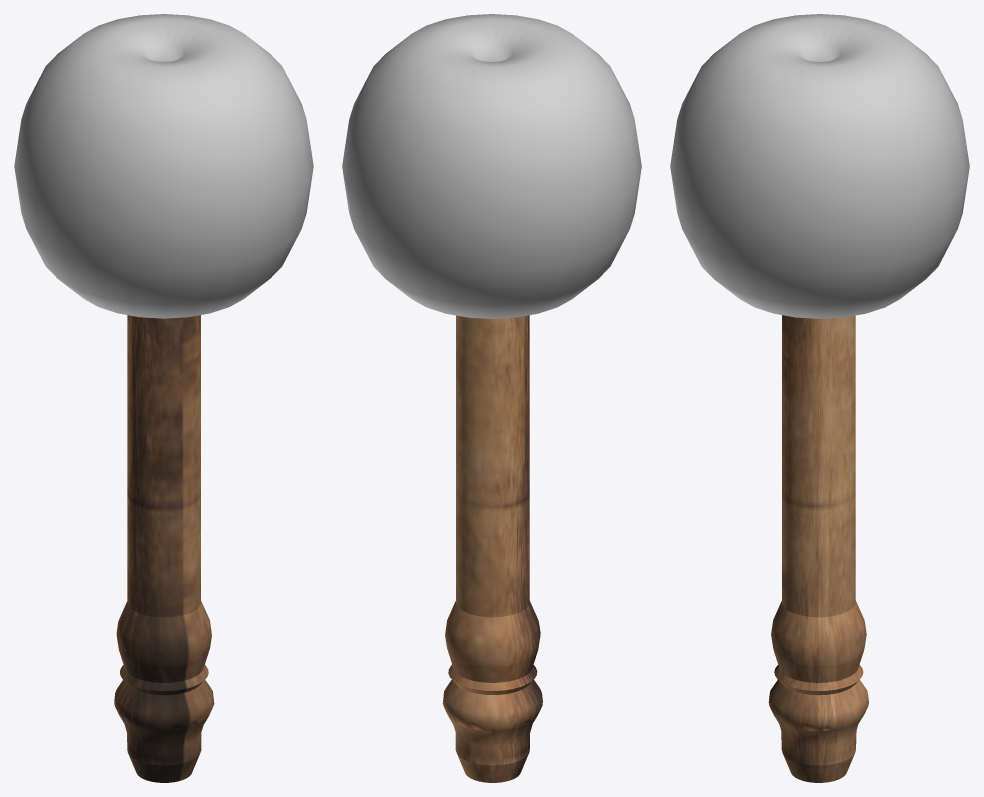
The model's file is new_pemukul_kempul_gong.FBX.
The picture shows the model from 3 angles, left to right: view 1: azimuth 30°, elevation 25°; view 2: azimuth 150°, elevation 25°; view 3: azimuth 270°, elevation 25°; orthographic projection.
Visible parts, largest first — view 1: pelog_gong_pemukul2; view 2: pelog_gong_pemukul2; view 3: pelog_gong_pemukul2.
Boxes of the visible parts, x1,y1,x2,y2 form: pelog_gong_pemukul2: (14, 14, 313, 782); pelog_gong_pemukul2: (342, 14, 641, 782); pelog_gong_pemukul2: (670, 14, 969, 782).
Bounding box in the file's own units: 4.4 × 11.91 × 4.4.
